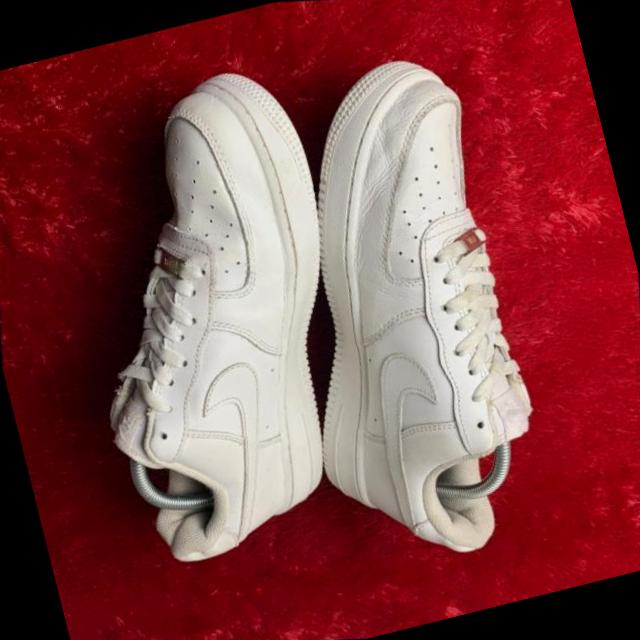nike_fake_airforce: (0, 25, 421, 604), (217, 18, 638, 595)
